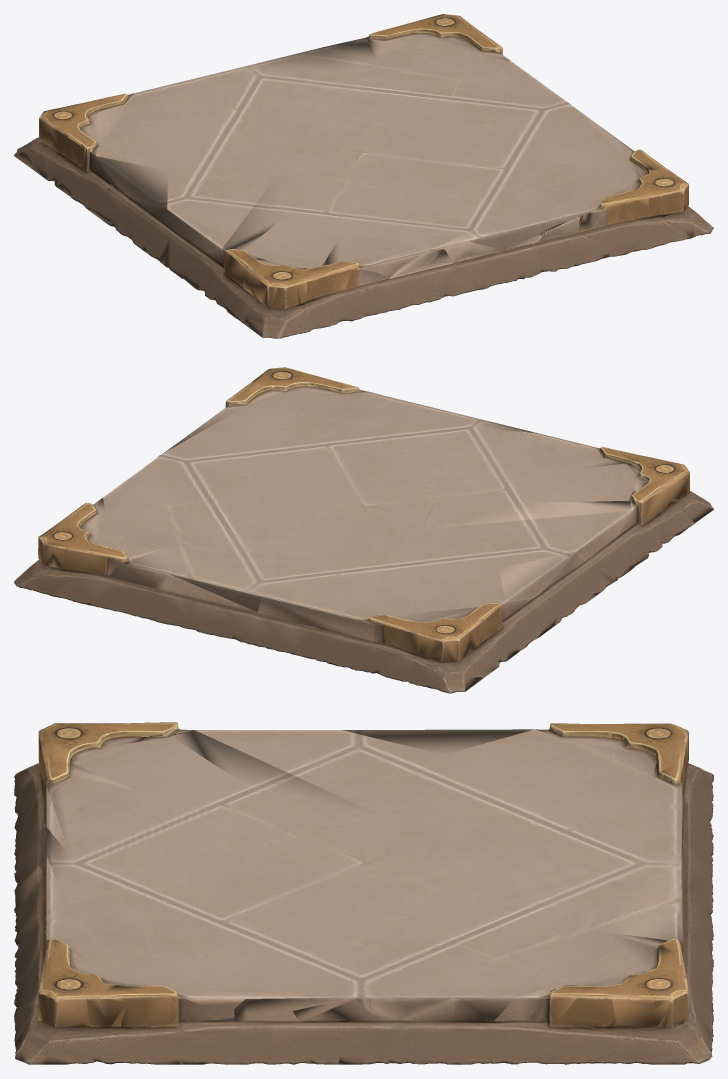
Rendered from piso-tabuleiro.fbx.
The picture shows the model from 3 angles, top to bottom: view 1: azimuth 30°, elevation 25°; view 2: azimuth 150°, elevation 25°; view 3: azimuth 270°, elevation 25°; orthographic projection. The views are drawn at different scales.
Parts seen in each view (by area): view 1: mesh_node; view 2: mesh_node; view 3: mesh_node.
Part boxes in pixels (<box>): mesh_node: <box>14,14,713,338</box>; mesh_node: <box>14,367,713,693</box>; mesh_node: <box>14,722,713,1064</box>.
Size of the model in its own units: 190 by 17.43 by 189.
1 material, 1 textured.
